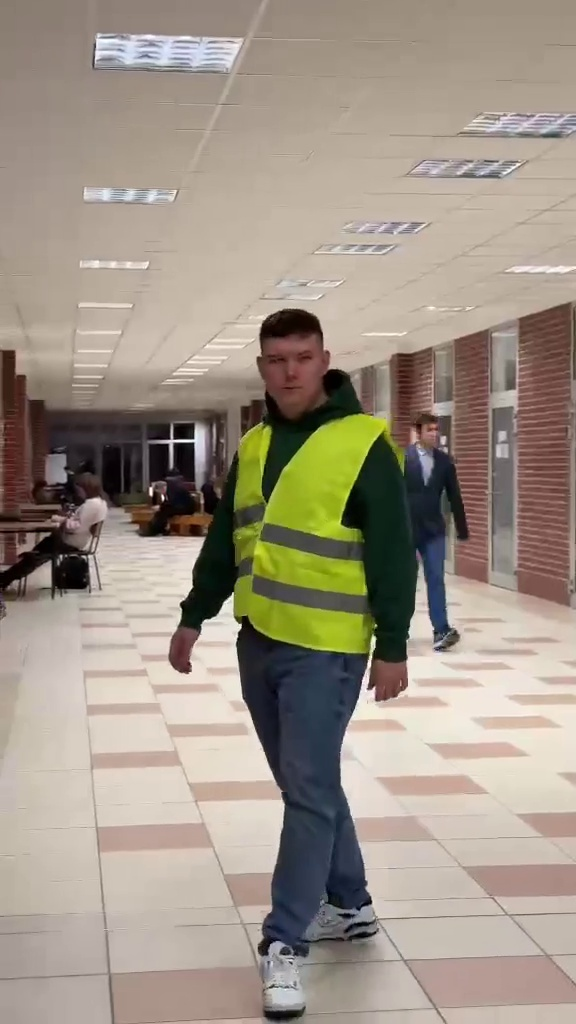no vest: (401, 407, 468, 660), (2, 468, 101, 606)
vest: (168, 310, 401, 1009)
